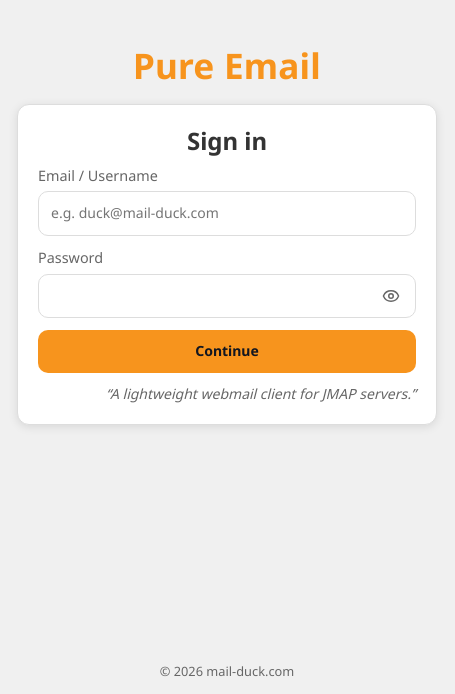
Test: LoginPage › shows safe, actionable error message: network
Type "duck@mail-duck.com" into the field labelled "Email / Username" at point(227, 214), box [38,191,416,236]
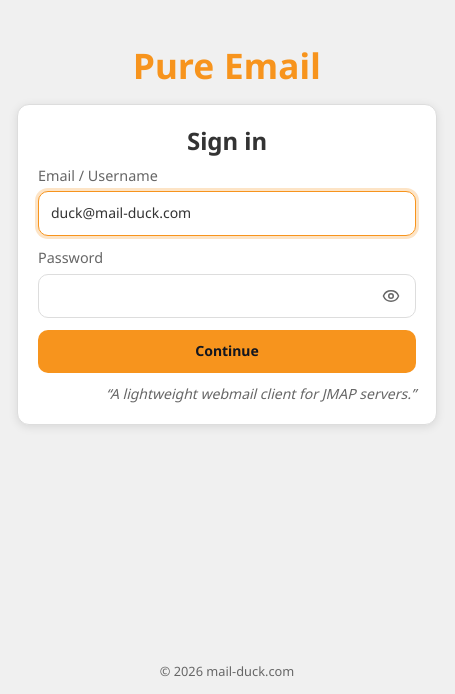
Type "pw" into the password field labelled "Password" at point(227, 296), box [38,274,416,318]
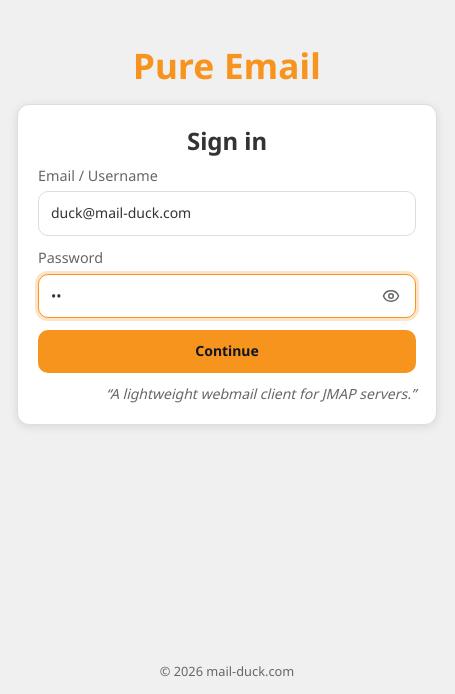
Click the button "Continue" at point(227, 352), box [38,330,416,373]
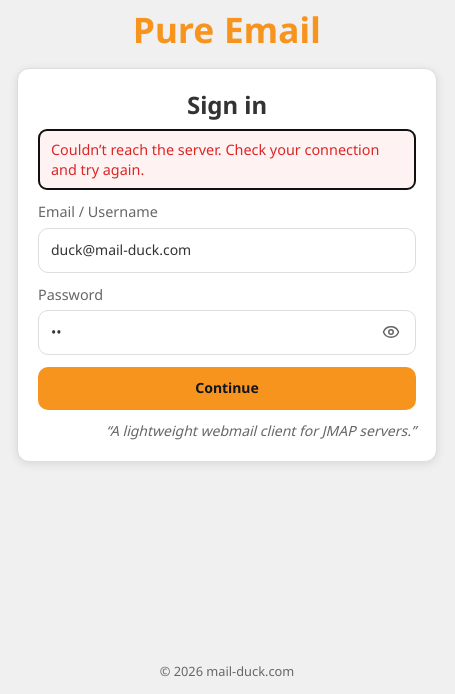
Expected: the message "Couldn’t reach the server. Check your connection and try again." is shown, [38,129,416,190]
Expected: the message shows "Couldn’t reach the server", [51,140,379,179]
